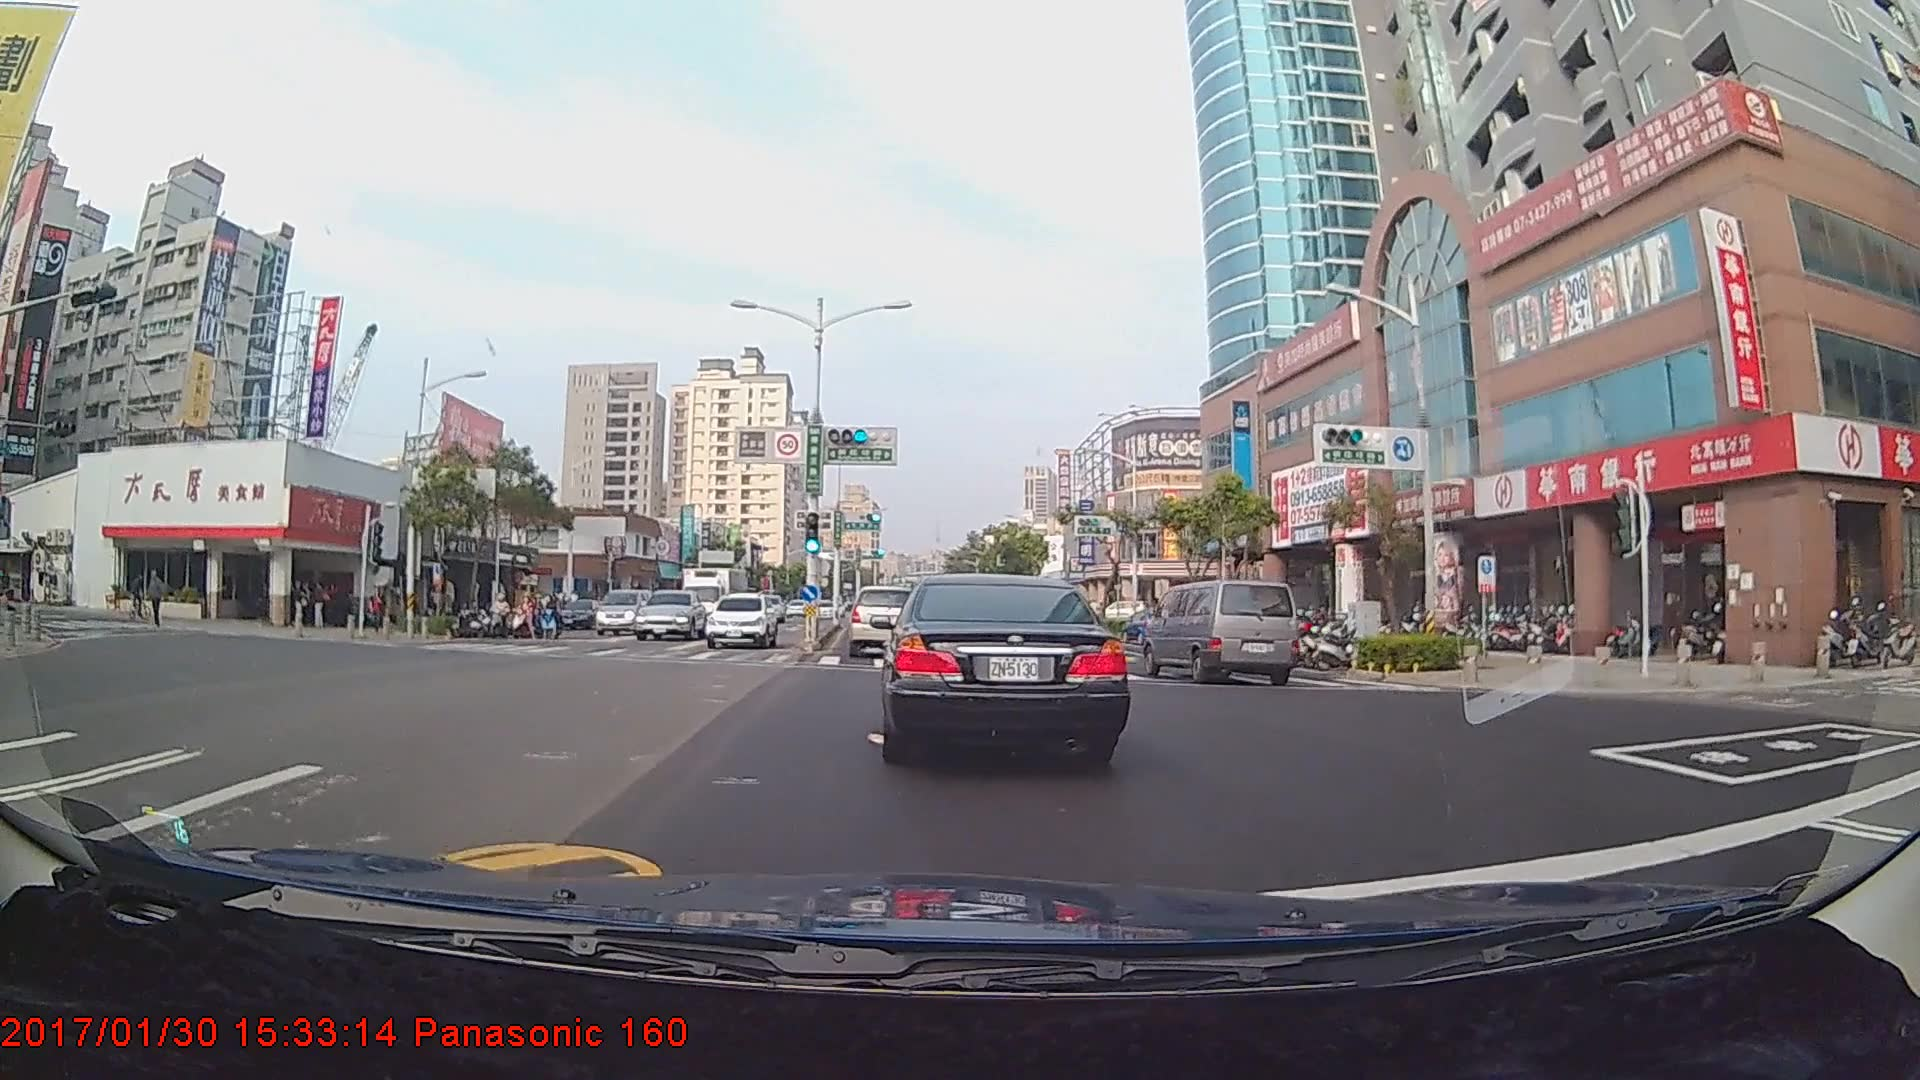pedestrian: (145, 569, 168, 626), (291, 579, 311, 633), (309, 580, 329, 629)
vehicle: (877, 567, 1125, 764), (1144, 576, 1300, 685), (846, 582, 923, 657), (680, 561, 752, 634), (705, 591, 779, 649), (633, 590, 707, 642), (591, 585, 652, 636)
